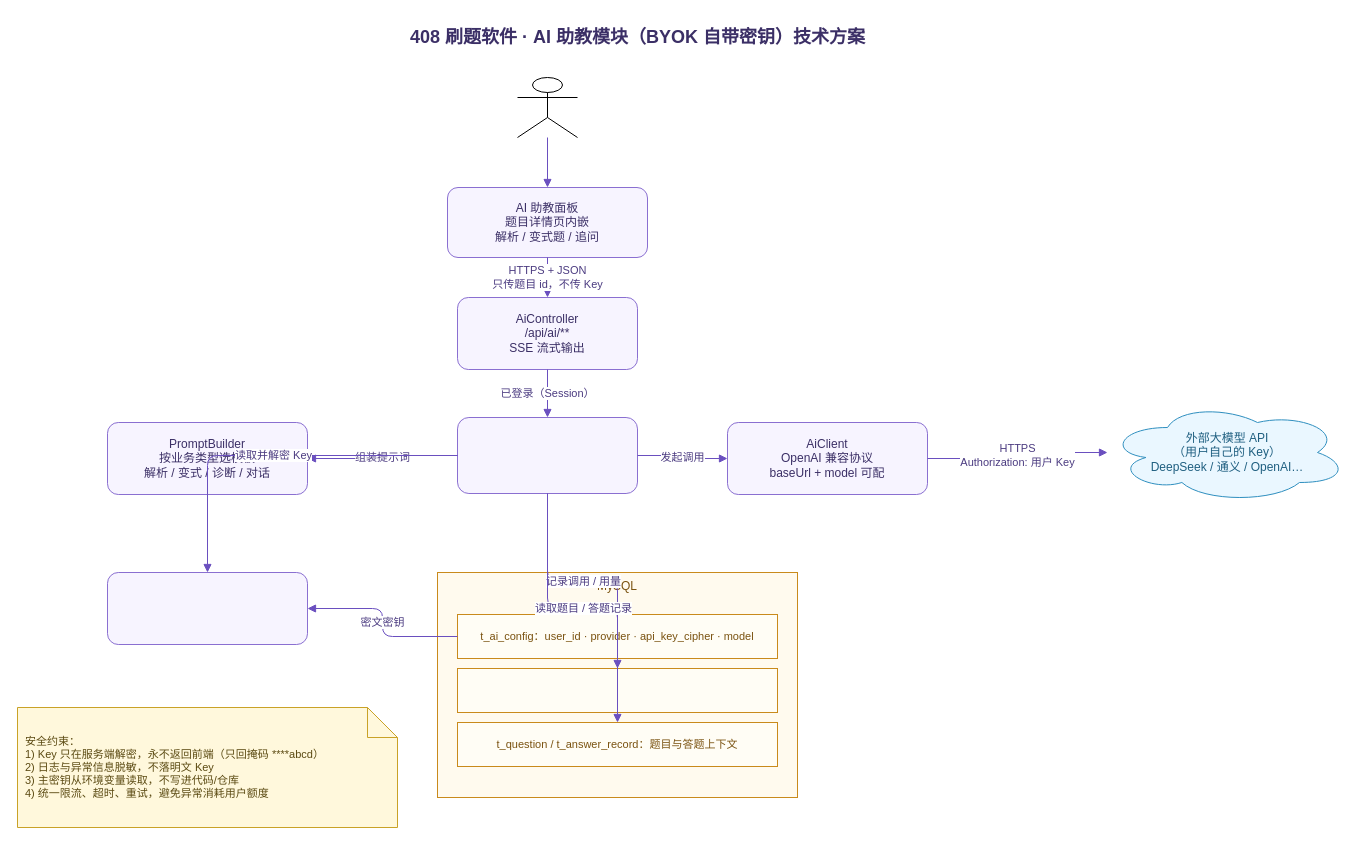
Image size: 1365x845. Some labels were removed from this diagram. The centre of each missing label's shape, as x and y in pixels:
"AiService 取题 → 组装 Prompt → 调模型 → 落库" goes at (x=547, y=455).
"KeyCipher AES-GCM 加解密 密钥只存密文" goes at (x=207, y=608).
"t_ai_record：调用记录 · Token 用量 · 成功/失败" goes at (x=617, y=690).
"学生" goes at (x=547, y=107).
